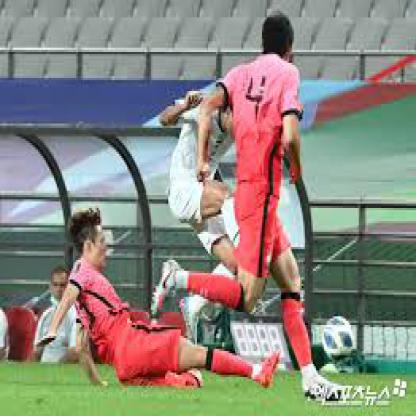Fall_Down: (30, 209, 282, 392)
